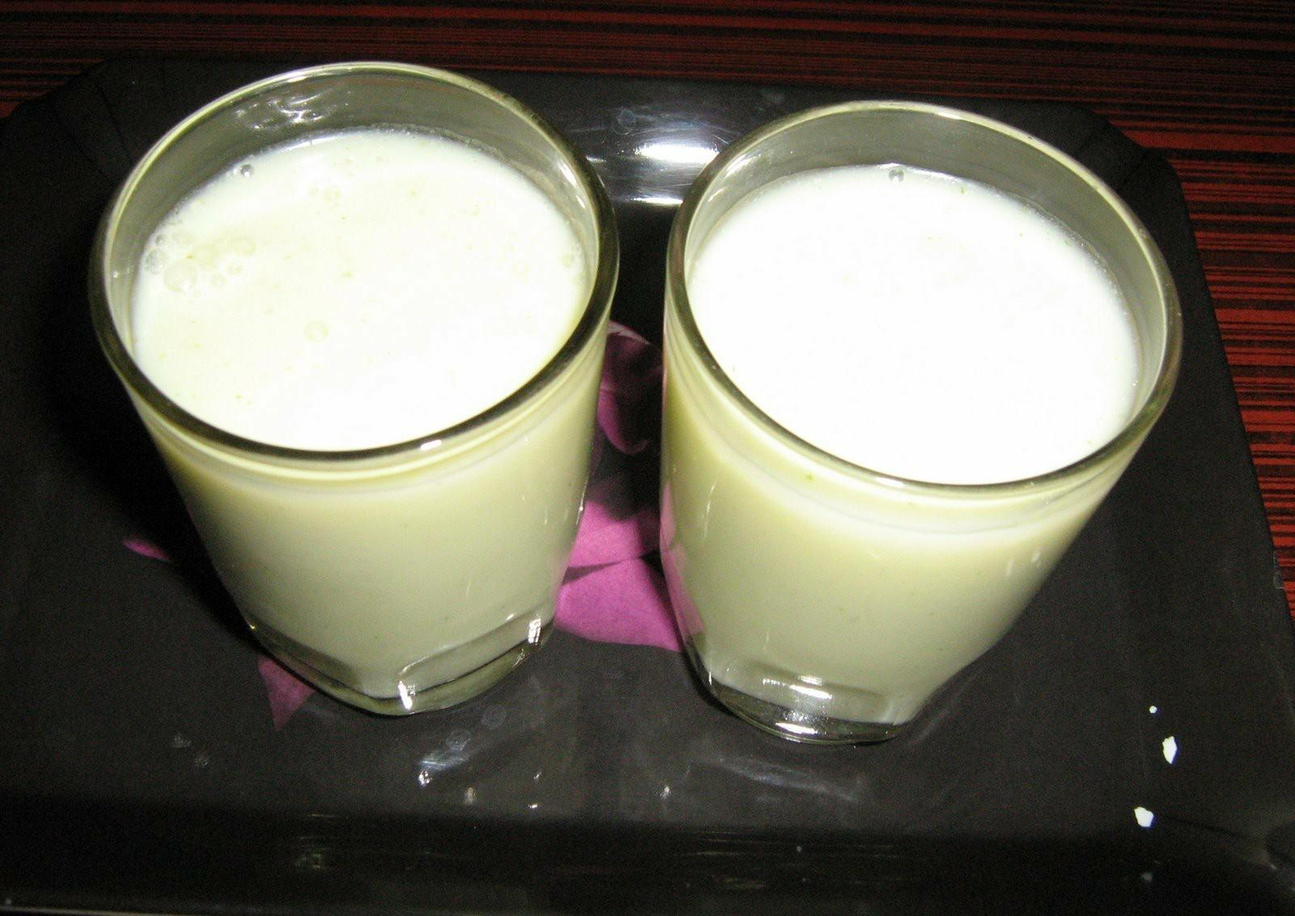Lassi: (665, 153, 1142, 727), (133, 128, 592, 696)
